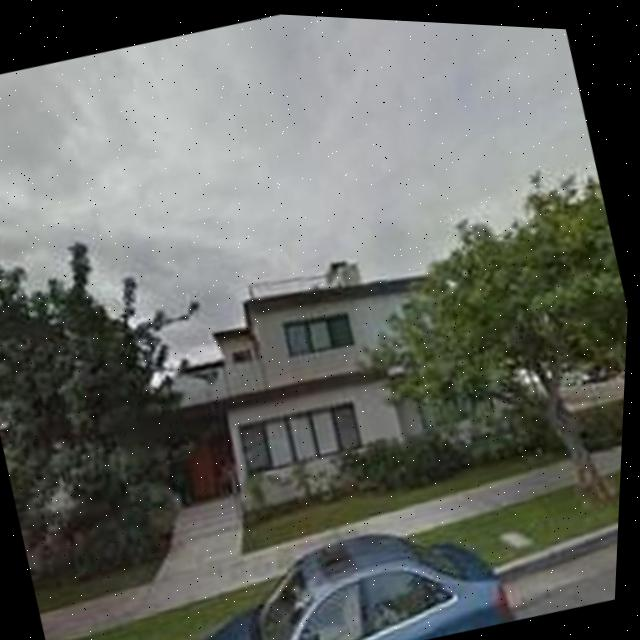building: (125, 225, 523, 528)
